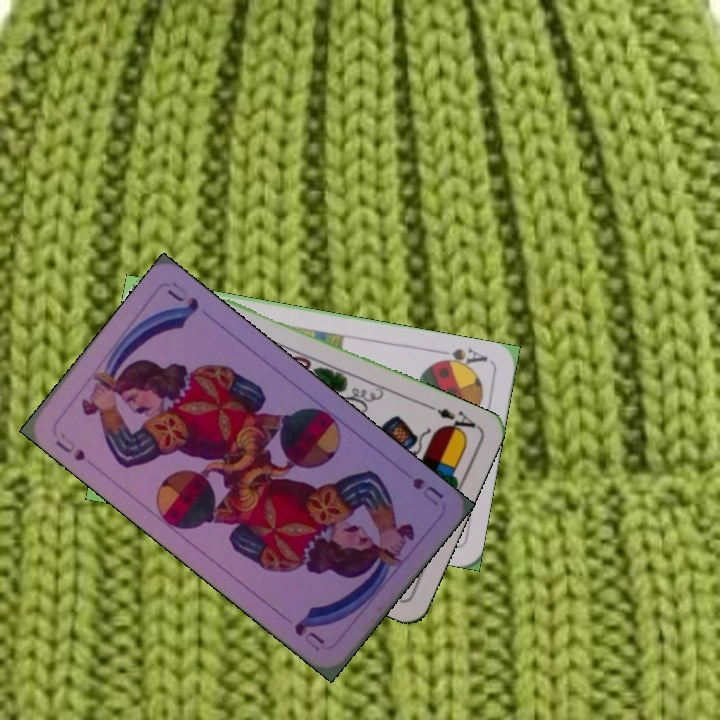EA: (432, 404, 481, 438)
SA: (430, 344, 490, 373)
SU: (408, 473, 447, 509), (52, 430, 88, 464)
